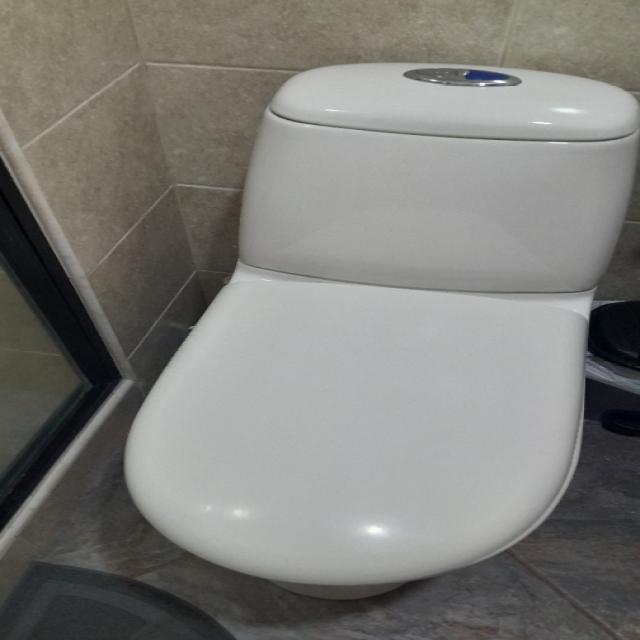toilet: (111, 55, 640, 612)
